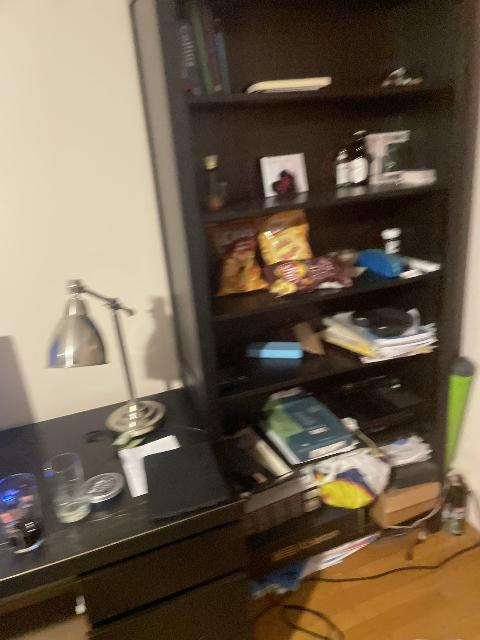Chio Hula Hoops Cheese 70g: (210, 219, 269, 296), (254, 209, 312, 268)
Lays Beef Grilled Ribs 125g: (260, 253, 360, 296)
